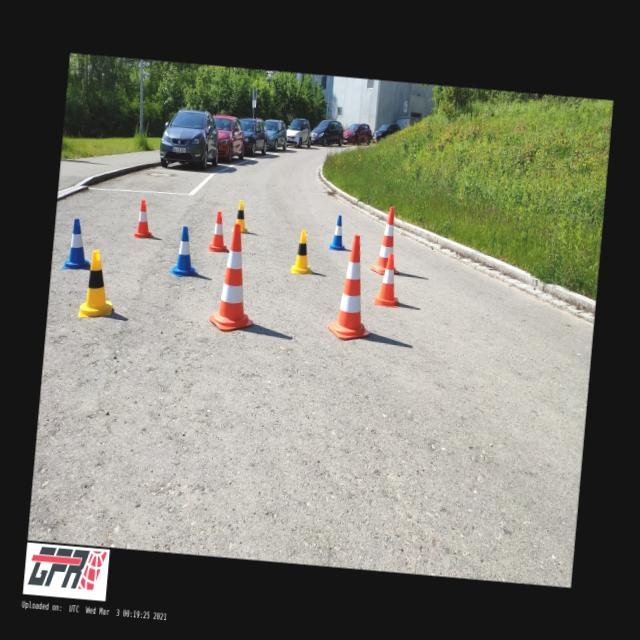blue_cone: (62, 217, 94, 271), (169, 225, 201, 278), (328, 213, 348, 250)
large_orange_cone: (208, 222, 262, 334), (326, 232, 378, 341), (369, 204, 404, 276)
orange_cone: (373, 252, 402, 307), (208, 210, 230, 252), (132, 198, 154, 238)
yellow_cone: (78, 248, 117, 320), (290, 228, 314, 274), (232, 198, 250, 232)
